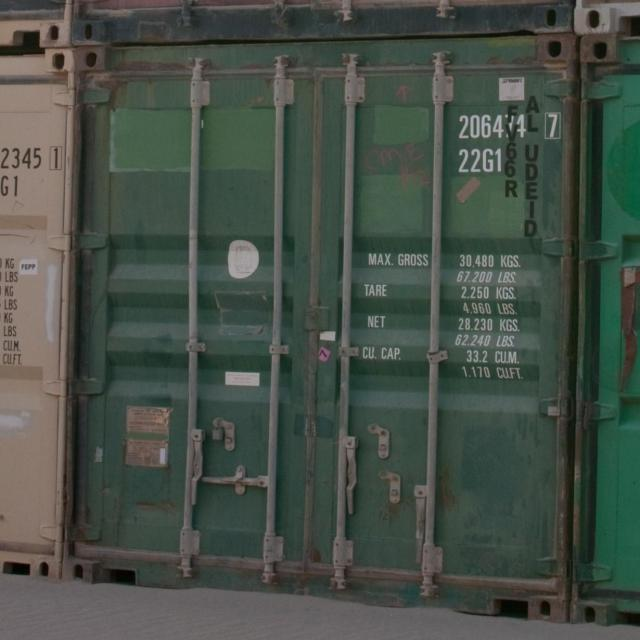ISO: (454, 148, 508, 172)
container_number: (456, 116, 564, 140)
